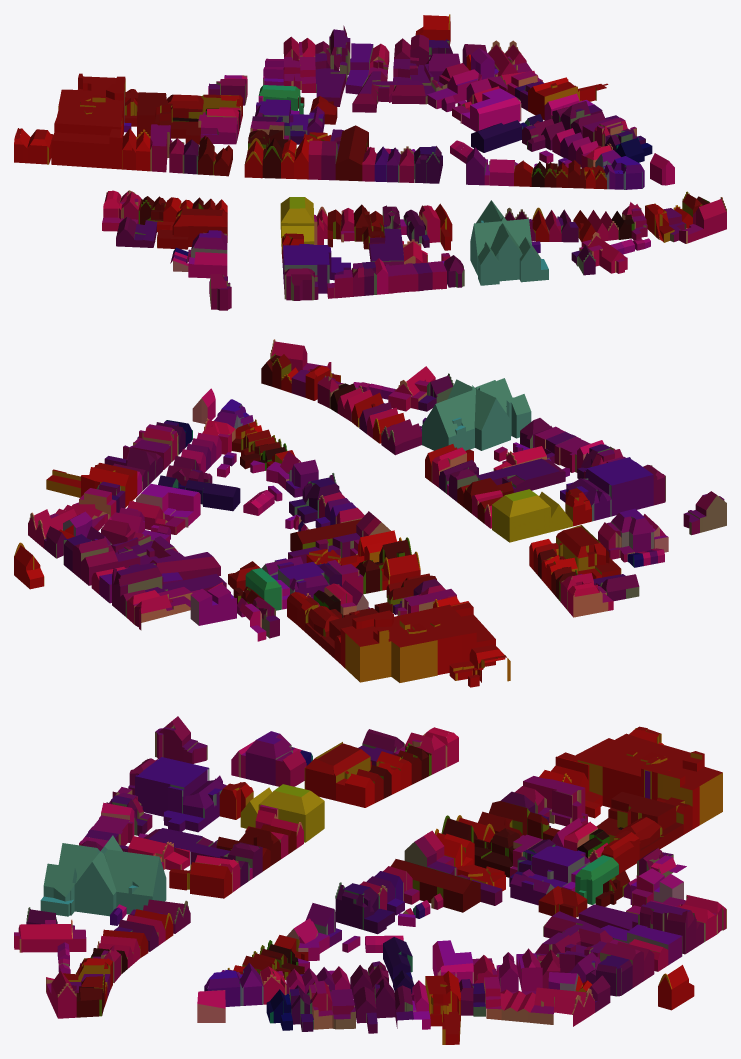
File: buildings_9_11.glb
The picture shows the model from 3 angles, top to bottom: view 1: azimuth 30°, elevation 25°; view 2: azimuth 150°, elevation 25°; view 3: azimuth 270°, elevation 25°; orthographic projection. The views are drawn at different scales.
Visible parts, largest first — view 1: buildings_9_11; view 2: buildings_9_11; view 3: buildings_9_11.
Boxes of the visible parts, <box> form: buildings_9_11: <box>14,14,726,310</box>; buildings_9_11: <box>14,339,726,687</box>; buildings_9_11: <box>14,716,726,1044</box>.
Size of the model in its own units: 223 by 19.56 by 225.
